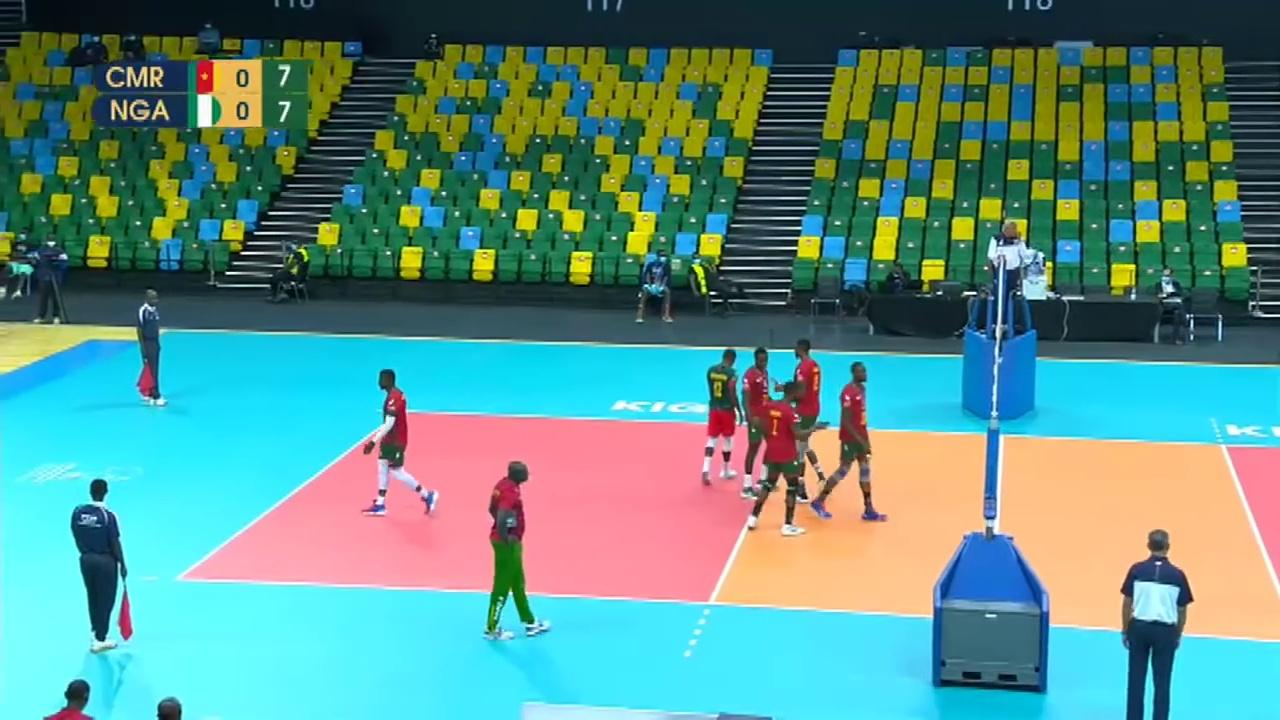player: (813, 362, 888, 522), (361, 374, 435, 516), (750, 386, 807, 534), (786, 339, 831, 504), (706, 350, 749, 488), (741, 347, 779, 503)
refree: (1118, 533, 1195, 717), (67, 480, 129, 647), (989, 221, 1029, 328), (132, 289, 163, 406)
